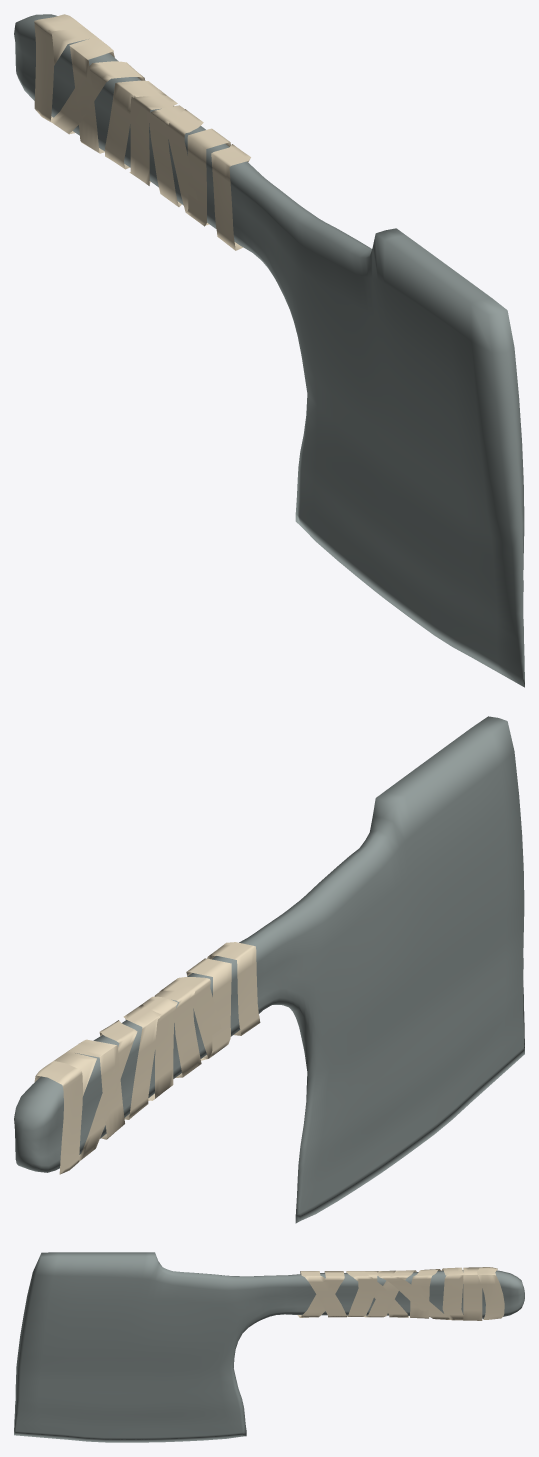
File: ChoppingKnifeV2UNTEXTURED.fbx
3 views of the same model, one above another, from view 1: azimuth 30°, elevation 25°; view 2: azimuth 150°, elevation 25°; view 3: azimuth 270°, elevation 25° (orthographic). The views are drawn at different scales.
Parts seen in each view (by area): view 1: Knife, Bandage; view 2: Knife, Bandage; view 3: Knife, Bandage.
Part boxes in pixels (<box>): Knife: <box>14,14,524,687</box>; Bandage: <box>34,14,250,250</box>; Knife: <box>14,716,524,1223</box>; Bandage: <box>34,942,260,1174</box>; Knife: <box>14,1252,524,1442</box>; Bandage: <box>297,1267,504,1320</box>.
Size of the model in its own units: 5.56 by 59.71 by 147.
